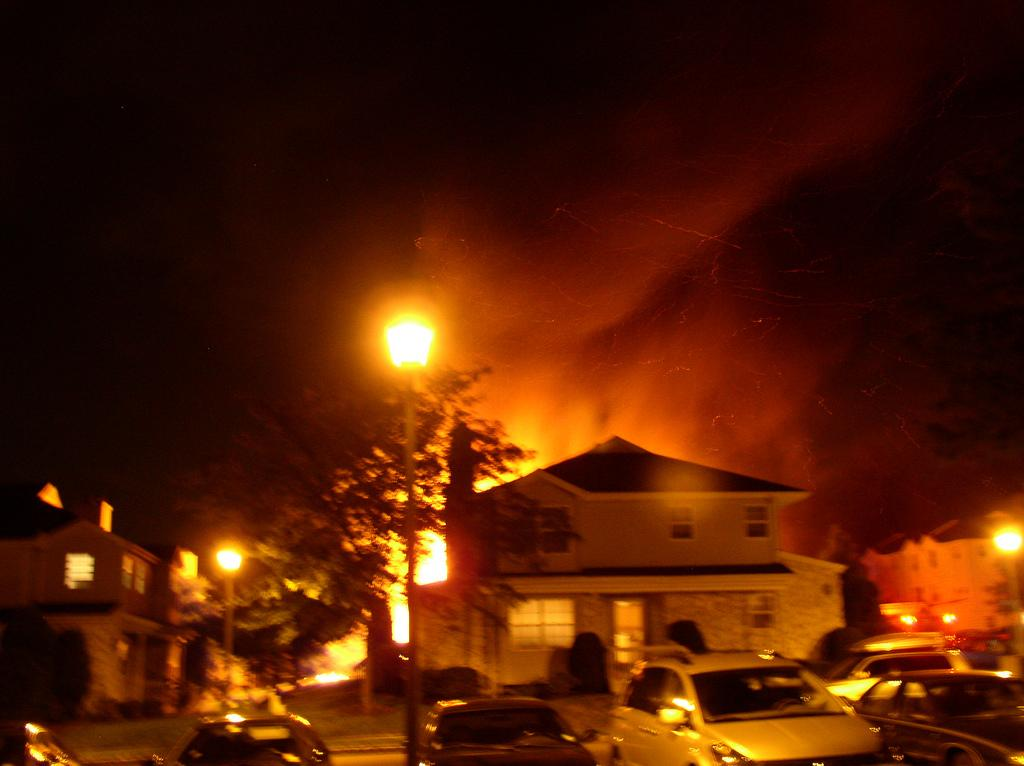fire: (304, 638, 368, 684), (420, 536, 446, 588), (388, 598, 412, 644)
